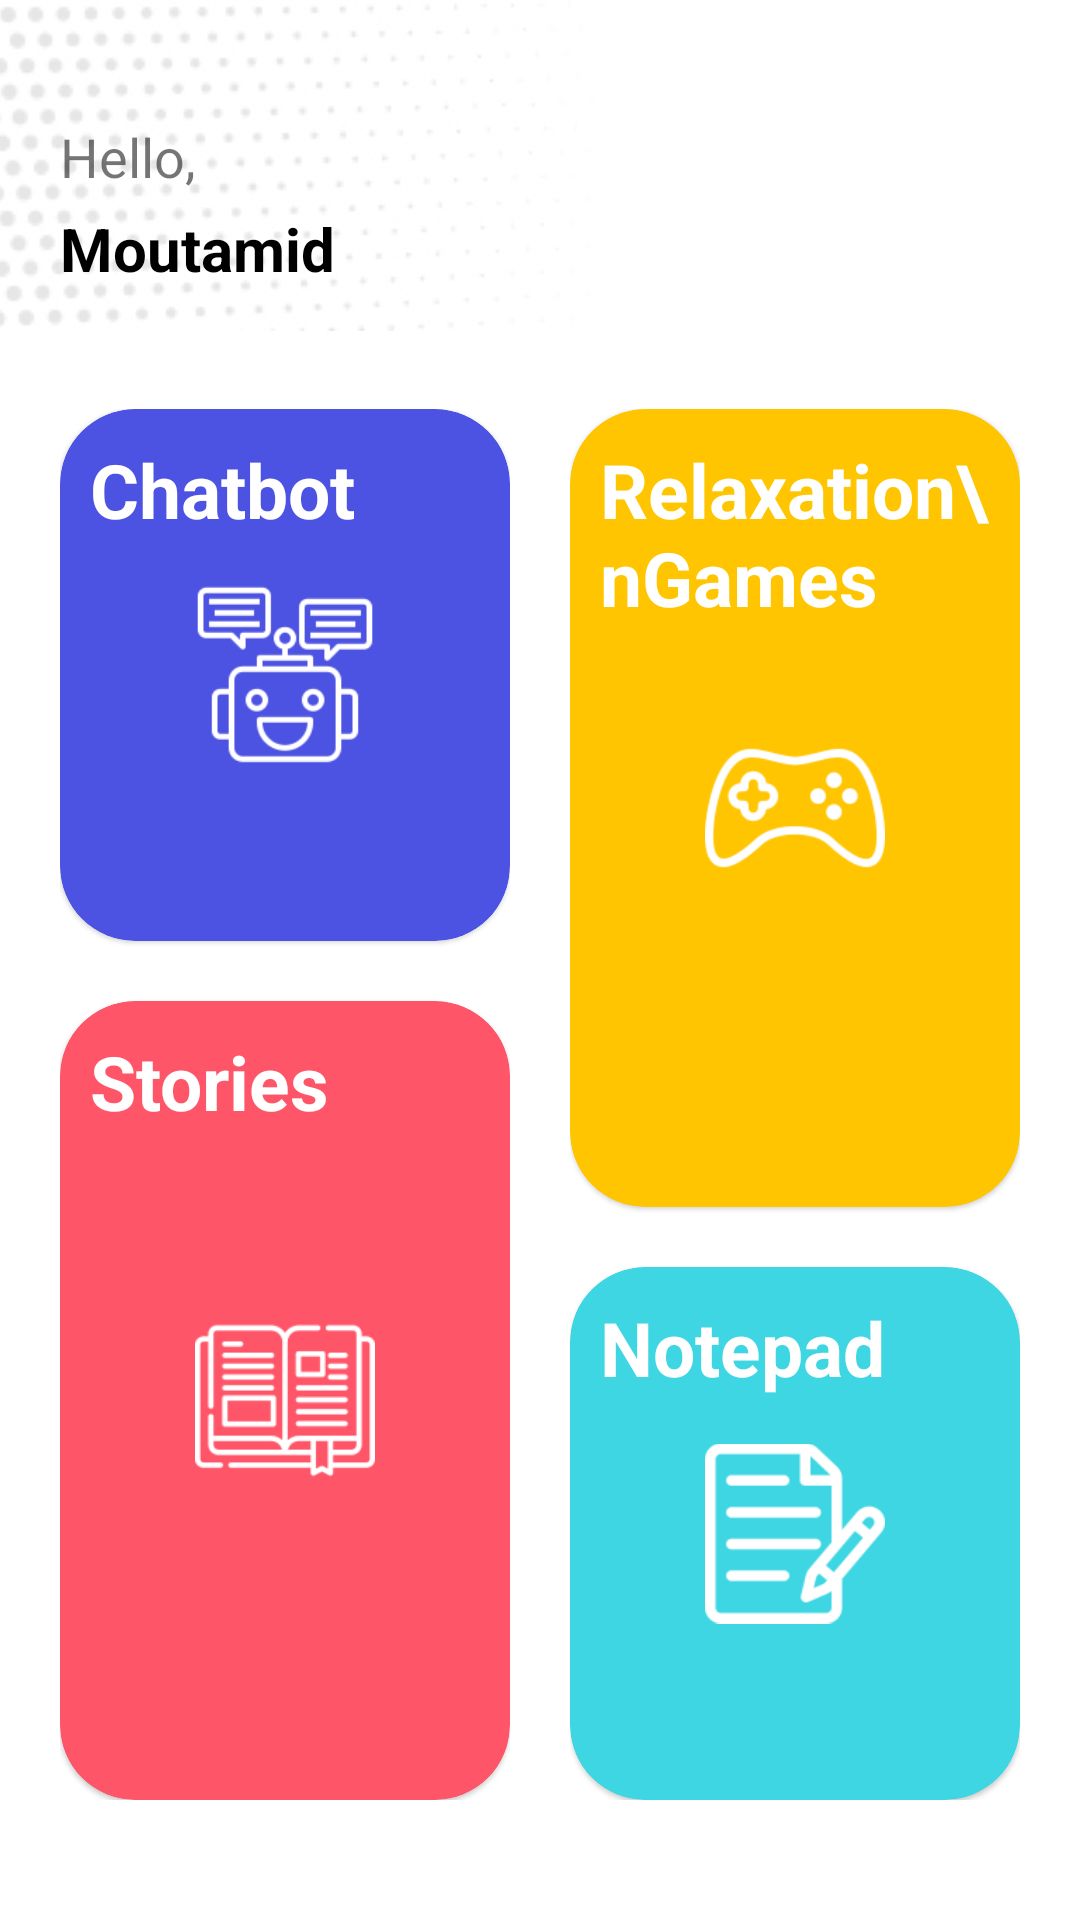

Where icons sit on this 1080 x 1920 app screen, as detection(x1, y1, x2, y2):
bot: detection(197, 587, 373, 763)
